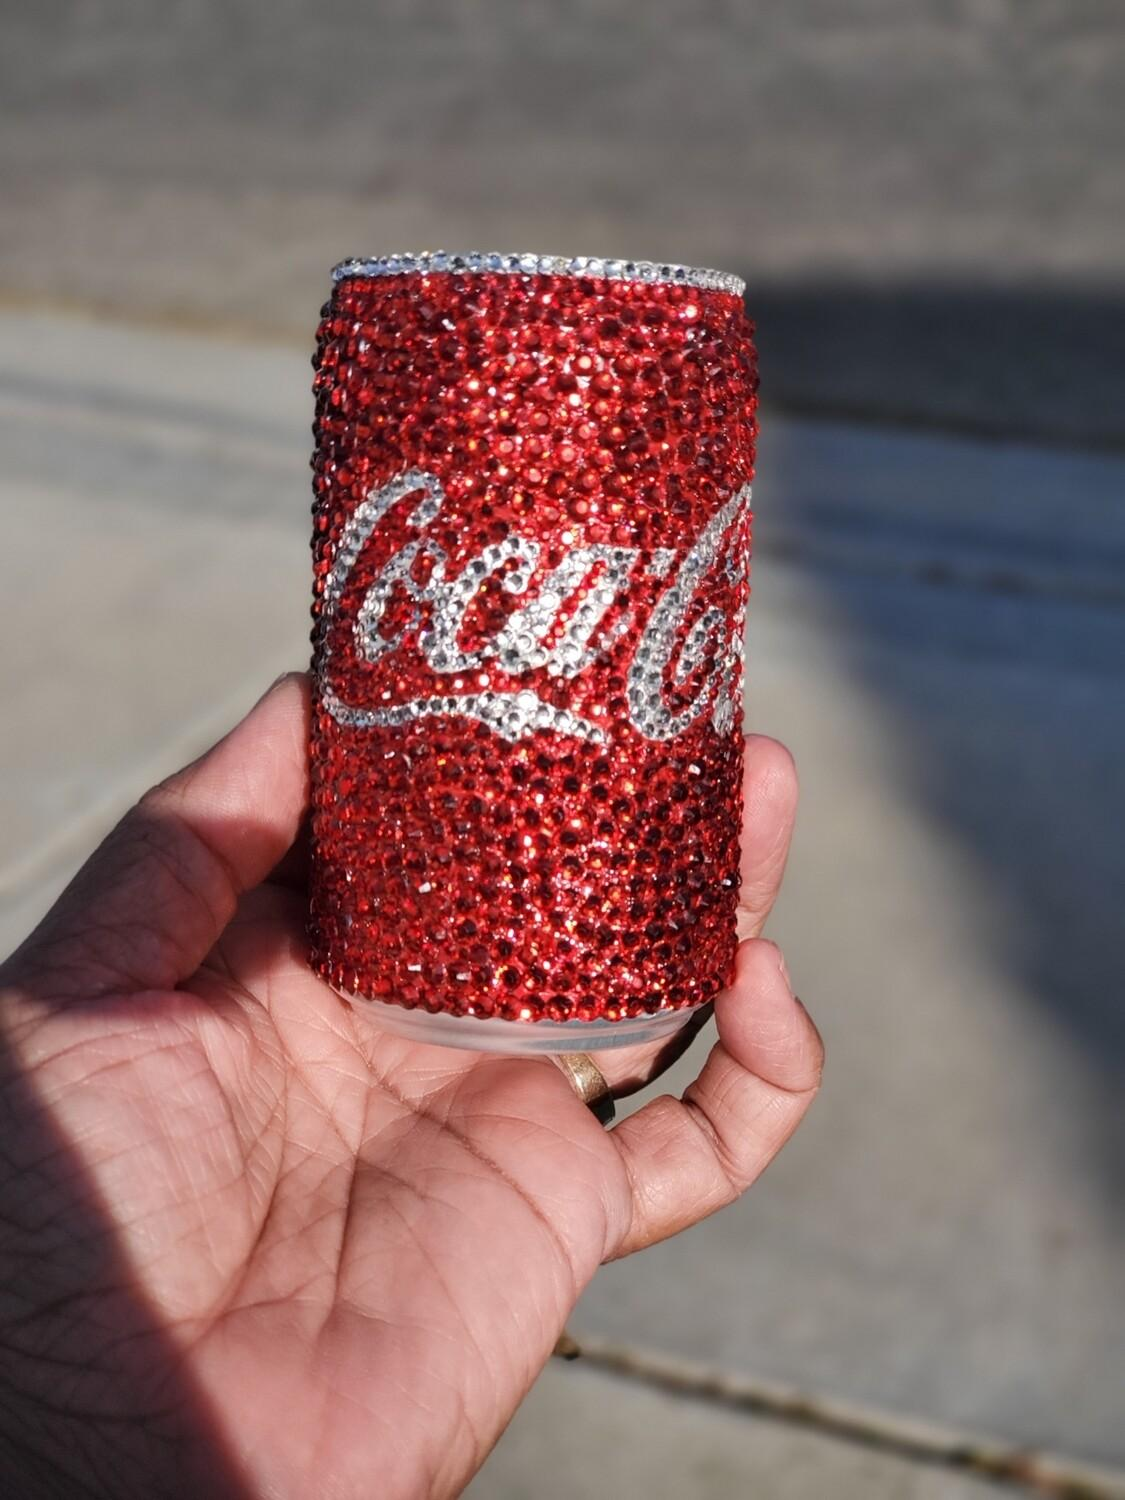can: (296, 232, 766, 1050)
